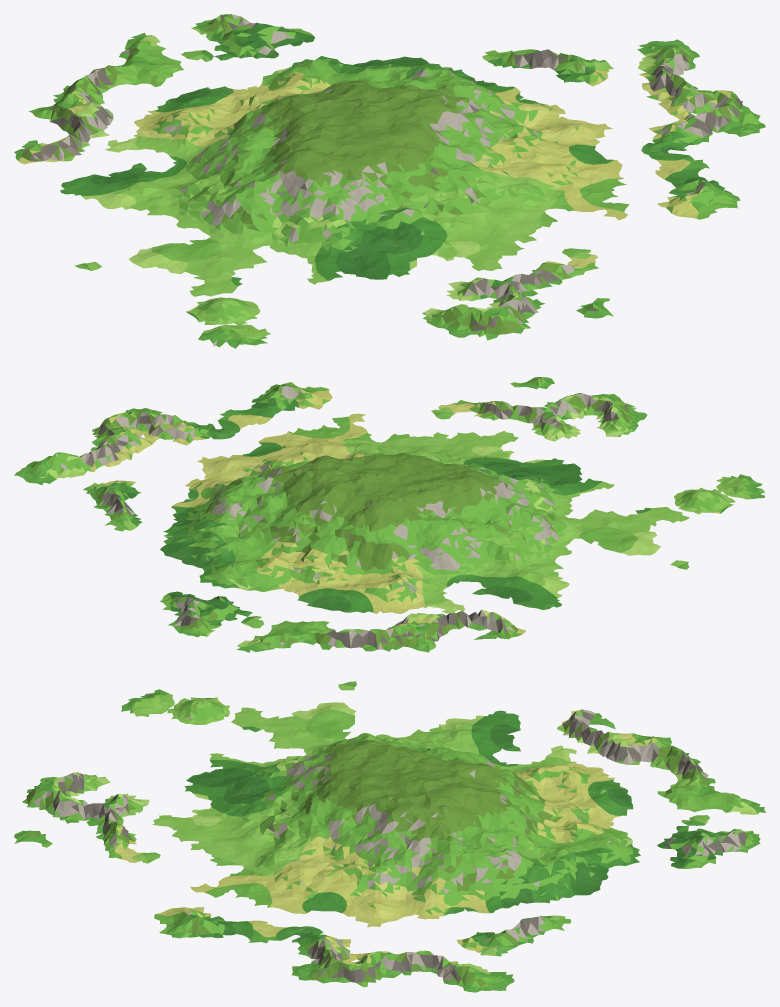
Rendered from Isl-hilly5-Relief.fbx.
3 renders of one model, top to bottom at view 1: azimuth 30°, elevation 25°; view 2: azimuth 150°, elevation 25°; view 3: azimuth 270°, elevation 25°, orthographic. The views are drawn at different scales.
Parts seen in each view (by area): view 1: Isl-hilly5-Relief-c11, Isl-hilly5-Relief-c21, Isl-hilly5-Relief-c12, Isl-hilly5-Relief-c22, Isl-hilly5-Relief-c10, Isl-hilly5-Relief-c31, Isl-hilly5-Relief-c32; view 2: Isl-hilly5-Relief-c12, Isl-hilly5-Relief-c22, Isl-hilly5-Relief-c11, Isl-hilly5-Relief-c21, Isl-hilly5-Relief-c32, Isl-hilly5-Relief-c31, Isl-hilly5-Relief-c10, Isl-hilly5-Relief-c23; view 3: Isl-hilly5-Relief-c21, Isl-hilly5-Relief-c22, Isl-hilly5-Relief-c11, Isl-hilly5-Relief-c12, Isl-hilly5-Relief-c31, Isl-hilly5-Relief-c32, Isl-hilly5-Relief-c10.
Boxes of the visible parts, bbox=[...] form: Isl-hilly5-Relief-c11: bbox=[75, 118, 536, 348]; Isl-hilly5-Relief-c21: bbox=[361, 84, 740, 296]; Isl-hilly5-Relief-c12: bbox=[14, 41, 360, 216]; Isl-hilly5-Relief-c22: bbox=[197, 14, 672, 127]; Isl-hilly5-Relief-c10: bbox=[433, 292, 545, 340]; Isl-hilly5-Relief-c31: bbox=[670, 76, 765, 136]; Isl-hilly5-Relief-c32: bbox=[637, 39, 699, 88]; Isl-hilly5-Relief-c12: bbox=[244, 475, 569, 652]; Isl-hilly5-Relief-c22: bbox=[83, 444, 386, 630]; Isl-hilly5-Relief-c11: bbox=[388, 397, 765, 569]; Isl-hilly5-Relief-c21: bbox=[114, 382, 527, 480]; Isl-hilly5-Relief-c32: bbox=[14, 438, 113, 484]; Isl-hilly5-Relief-c31: bbox=[92, 408, 161, 450]; Isl-hilly5-Relief-c10: bbox=[544, 393, 647, 428]; Isl-hilly5-Relief-c23: bbox=[168, 613, 214, 637]; Isl-hilly5-Relief-c21: bbox=[87, 775, 407, 963]; Isl-hilly5-Relief-c22: bbox=[404, 775, 738, 962]; Isl-hilly5-Relief-c11: bbox=[71, 681, 407, 823]; Isl-hilly5-Relief-c12: bbox=[404, 709, 739, 823]; Isl-hilly5-Relief-c31: bbox=[292, 949, 407, 987]; Isl-hilly5-Relief-c32: bbox=[404, 950, 514, 992]; Isl-hilly5-Relief-c10: bbox=[22, 772, 79, 823].
Size of the model in its own units: 116 by 9.27 by 119.
